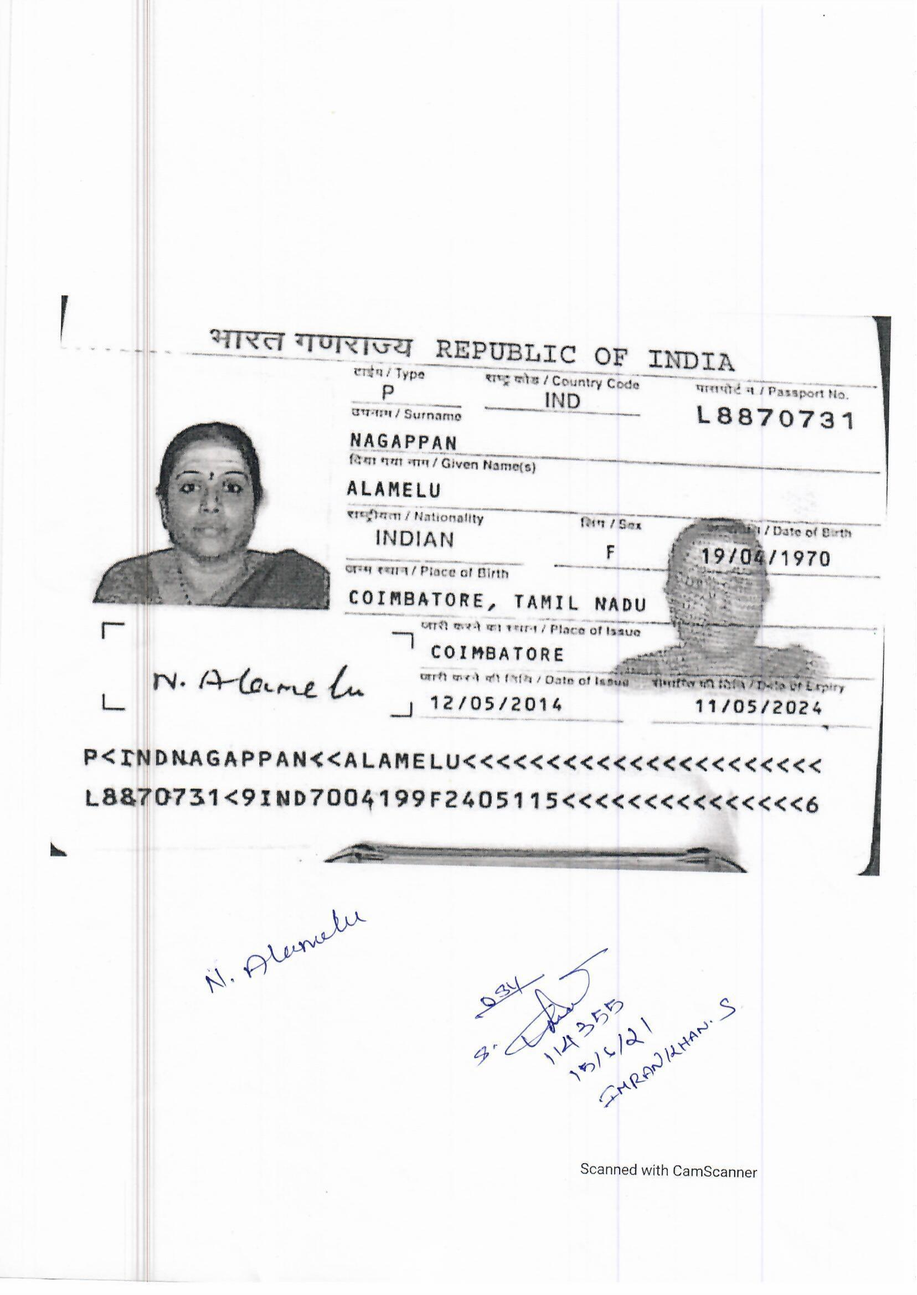DOB: (687, 539, 844, 574)
Surname: (343, 415, 470, 455)
country_code: (535, 386, 586, 412)
date_of_expiry: (683, 688, 831, 724)
date_of_issue: (420, 679, 572, 725)
details: (64, 738, 834, 831)
name: (335, 472, 550, 506)
nationality: (357, 522, 477, 559)
passport_no: (682, 399, 862, 436)
photo: (90, 367, 330, 608)
place_of_birth: (339, 576, 655, 622)
place_of_issue: (414, 636, 576, 674)
sex: (584, 530, 639, 568)
sign: (121, 640, 369, 718)
type: (363, 376, 414, 408)
